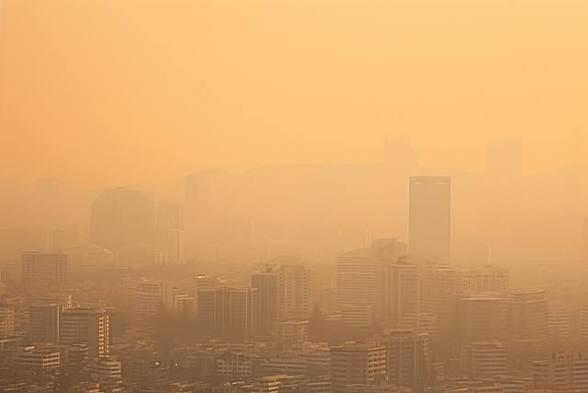Deteksi-Objek-Citra-Berasap: (0, 0, 588, 393)
Gedung: (90, 186, 158, 265), (335, 251, 382, 342), (409, 176, 451, 267), (382, 262, 431, 338), (61, 308, 111, 367), (329, 340, 388, 388), (508, 290, 550, 356), (422, 329, 463, 393), (428, 265, 468, 327), (279, 264, 313, 335), (466, 292, 509, 348), (464, 342, 508, 393), (22, 253, 68, 301), (250, 273, 279, 340), (157, 200, 185, 264), (389, 331, 421, 387), (82, 355, 123, 393), (221, 288, 251, 339), (17, 347, 61, 381), (28, 305, 60, 347), (132, 283, 161, 327), (195, 286, 220, 337)
